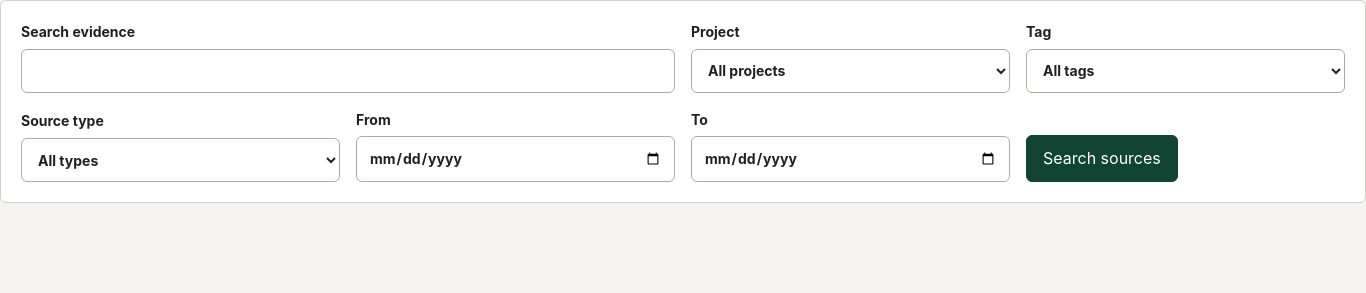
Test: SearchView › fails closed for a legacy bare-list search response
This screenshot has width=1366, height=293.
In the search field labelled "Search evidence": (348, 71) [21,49,675,93], type "missing"
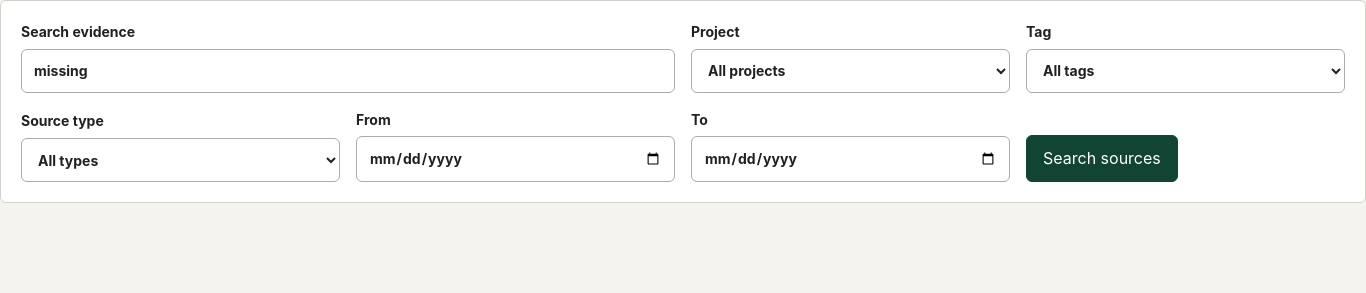
Click the button "Search sources": (1102, 159) [1026,135,1178,182]
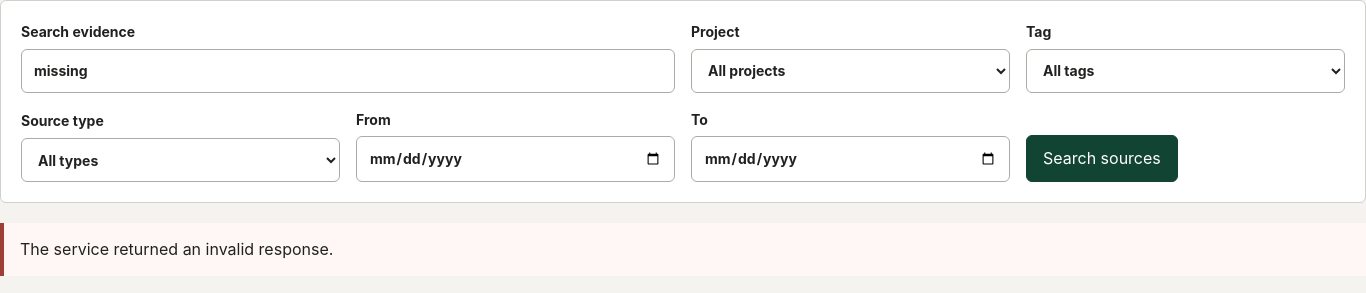
expect the message reads "The service returned an invalid response.": met, box [20,239,333,259]
